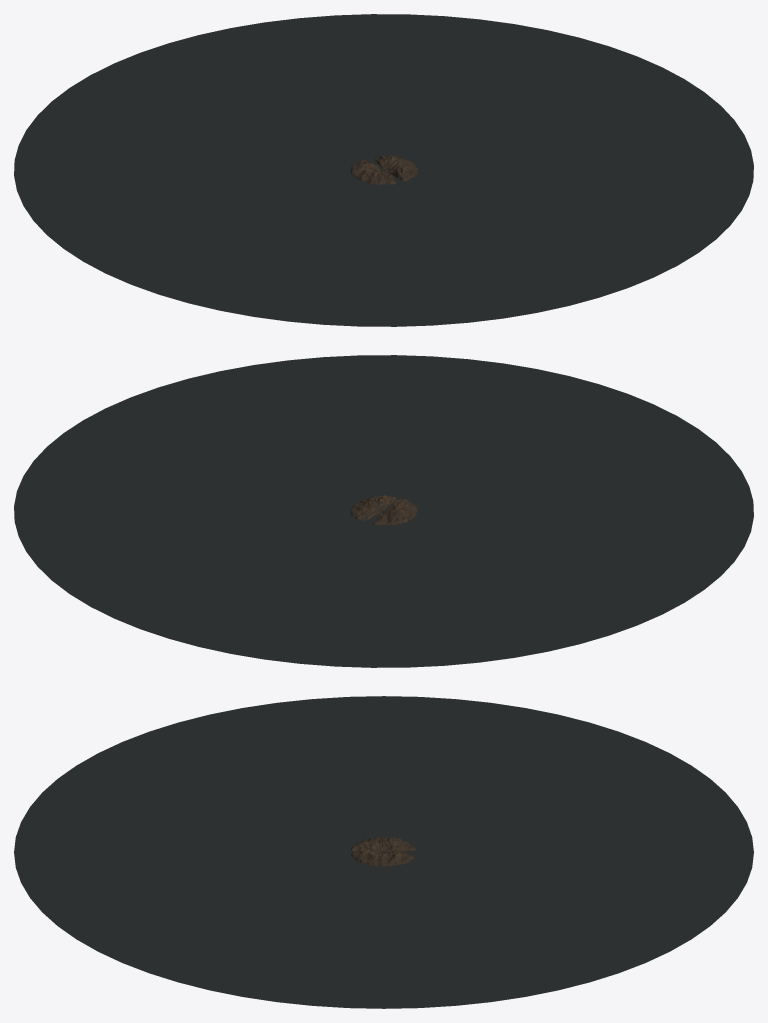
The model's file is backdrop_near_rect_flotsam_dead.glb.
3 views of the same model, one above another, from view 1: azimuth 30°, elevation 25°; view 2: azimuth 150°, elevation 25°; view 3: azimuth 270°, elevation 25° (orthographic).
Visible parts, largest first — view 1: water_N, water_S, water_W, water_E; view 2: water_N, water_S, water_W, water_E; view 3: water_E, water_N, water_W, water_S, near_land_E.
Boxes of the visible parts, x1=… form: water_N: x1=26, y1=14, x2=479, y2=170; water_S: x1=288, y1=173, x2=741, y2=326; water_W: x1=14, y1=130, x2=383, y2=321; water_E: x1=384, y1=19, x2=753, y2=210; water_N: x1=26, y1=511, x2=479, y2=667; water_S: x1=288, y1=355, x2=741, y2=511; water_W: x1=384, y1=471, x2=753, y2=662; water_E: x1=14, y1=360, x2=383, y2=551; water_E: x1=123, y1=852, x2=644, y2=1008; water_N: x1=384, y1=742, x2=753, y2=962; water_W: x1=123, y1=696, x2=644, y2=852; water_S: x1=14, y1=742, x2=383, y2=962; near_land_E: x1=360, y1=850, x2=407, y2=866.
Size of the model in its own units: 6000 by 168 by 6000.
4 materials, 3 textured.
